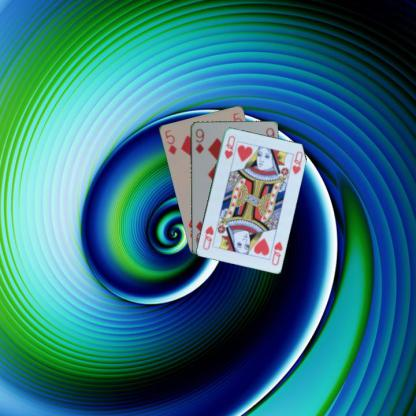5d: (162, 127, 178, 156)
9d: (193, 126, 205, 154)
Qh: (268, 239, 284, 266), (222, 133, 236, 160)
